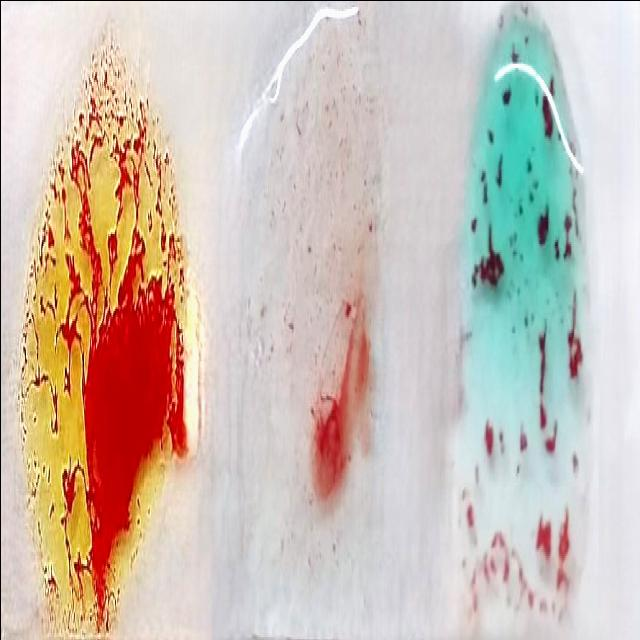A: (459, 16, 597, 640)
B: (28, 51, 205, 640)
D: (239, 30, 381, 630)
